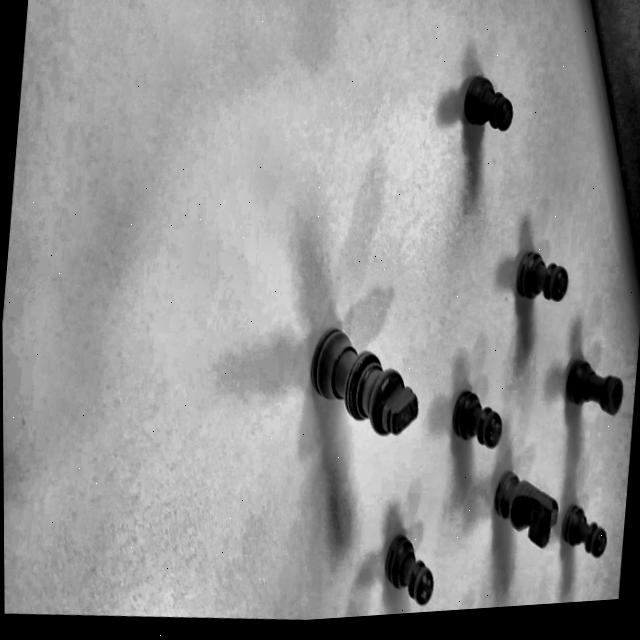black-king: (290, 301, 431, 453)
black-knight: (486, 454, 564, 566)
black-pawn: (372, 504, 446, 615), (449, 51, 521, 151), (441, 363, 510, 465), (505, 235, 575, 319), (553, 486, 615, 572)
black-rook: (554, 340, 631, 435)
